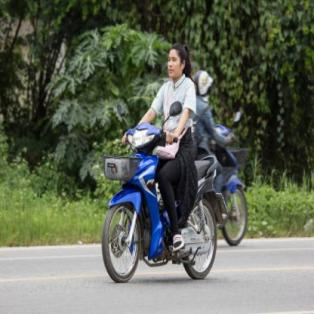Motocicleta: (99, 117, 215, 284)
